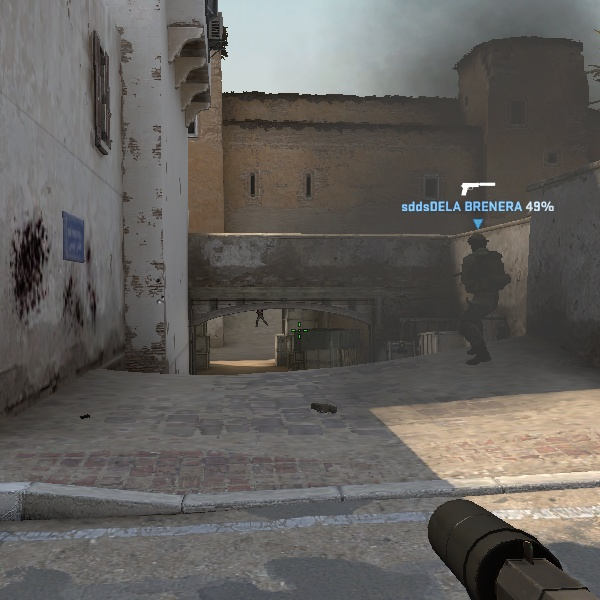ct_body: (435, 226, 514, 372)
ct_head: (458, 224, 495, 262)
